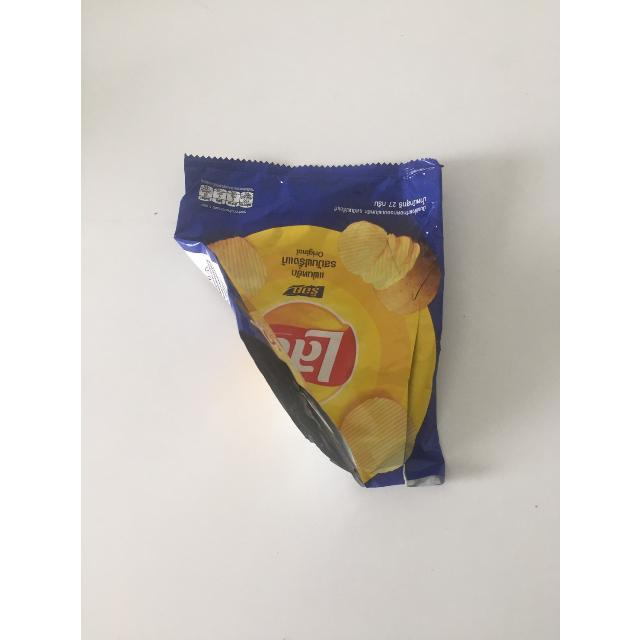Paquete de plastico: (175, 155, 452, 493)
